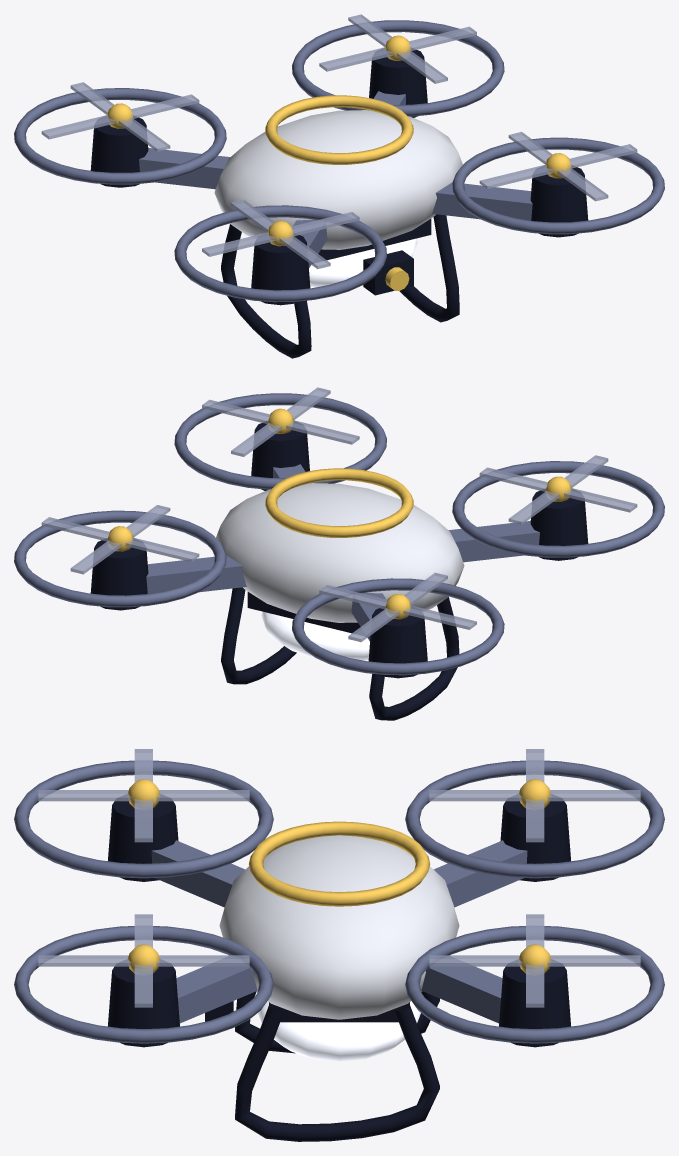
The model's file is show-drone.glb.
The picture shows the model from 3 angles, top to bottom: view 1: azimuth 30°, elevation 25°; view 2: azimuth 150°, elevation 25°; view 3: azimuth 270°, elevation 25°; orthographic projection. The views are drawn at different scales.
Parts seen in each view (by area): view 1: white_flight_shell, propeller_a (×4), rotor_guard_0, rotor_guard_2, rotor_guard_1, propeller_b (×4), rotor_guard_3, gold_top_ring, motor_1, motor_0, motor_2, landing_skid_-0.2 (+9 smaller); view 2: white_flight_shell, propeller_a (×4), rotor_guard_3, rotor_guard_2, rotor_guard_1, propeller_b (×4), rotor_guard_0, gold_top_ring, motor_2, motor_3, motor_1, landing_skid_-0.2 (+8 smaller); view 3: white_flight_shell, propeller_b (×4), rotor_guard_0, rotor_guard_3, rotor_guard_1, rotor_guard_2, landing_skid_0.2, gold_top_ring, propeller_a (×4), light_diffuser, motor_0, motor_3 (+9 smaller).
Part boxes in pixels (x1,y1,x2,y2): white_flight_shell: (214,110,462,249); propeller_a (×4): (41,26,637,256); rotor_guard_0: (452,137,664,234); rotor_guard_2: (14,88,226,184); rotor_guard_1: (174,205,386,302); propeller_b (×4): (70,14,608,269); rotor_guard_3: (292,20,504,116); gold_top_ring: (265,95,413,164); motor_1: (251,233,310,305); motor_0: (530,166,588,237); motor_2: (90,116,148,187); landing_skid_-0.2: (221,224,311,358); white_flight_shell: (216,483,464,622); propeller_a (×4): (41,399,637,629); rotor_guard_3: (14,510,226,607); rotor_guard_2: (292,578,504,675); rotor_guard_1: (452,461,664,557); propeller_b (×4): (70,387,608,642); rotor_guard_0: (174,393,386,489); gold_top_ring: (265,468,413,537); motor_2: (368,606,427,678); motor_3: (90,539,148,610); motor_1: (530,489,588,560); landing_skid_-0.2: (369,597,459,720); white_flight_shell: (219,835,459,1019); propeller_b (×4): (38,790,640,966); rotor_guard_0: (14,926,273,1043); rotor_guard_3: (405,926,664,1043); rotor_guard_1: (14,760,273,878); rotor_guard_2: (405,760,664,878); landing_skid_0.2: (235,1005,439,1141); gold_top_ring: (248,821,430,906); propeller_a (×4): (134,749,544,1007); light_diffuser: (258,1001,420,1061); motor_0: (108,960,179,1047); motor_3: (499,960,570,1047).
Size of the model in its own units: 1.25 by 0.5022 by 1.25.
